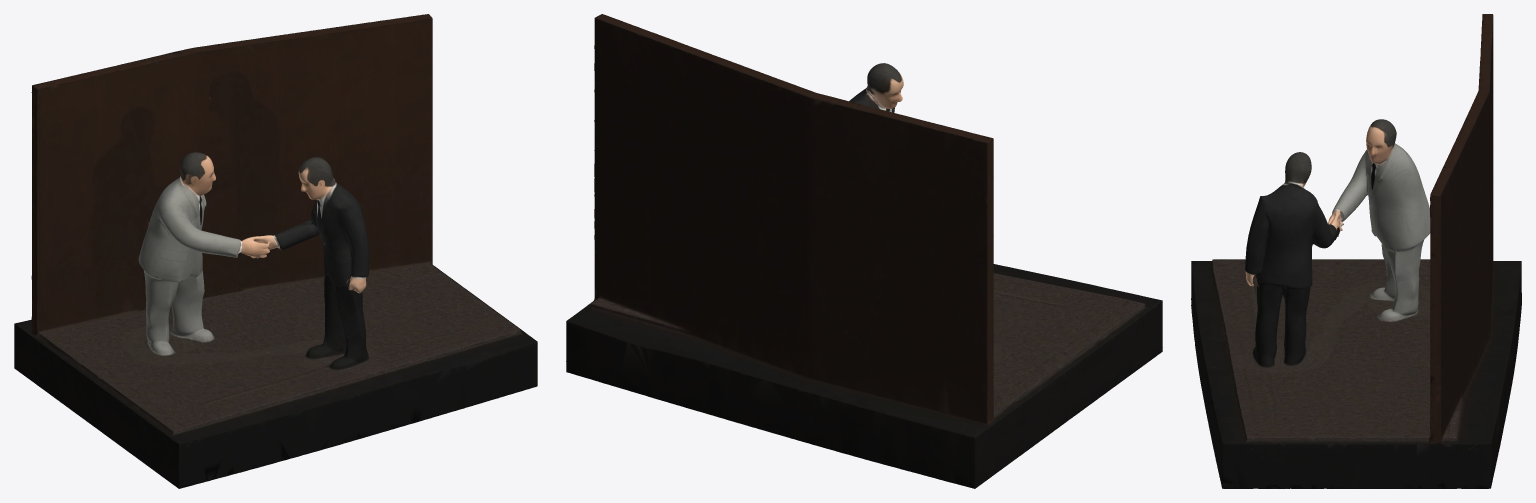
Rendered from my_bat_tay_trung_xo.glb.
The picture shows the model from 3 angles, left to right: view 1: azimuth 30°, elevation 25°; view 2: azimuth 150°, elevation 25°; view 3: azimuth 270°, elevation 25°; orthographic projection. The views are drawn at different scales.
Bounding box in the file's own units: 1.9 × 1.42 × 1.45.
Materials: 1 (1 with a texture image).
